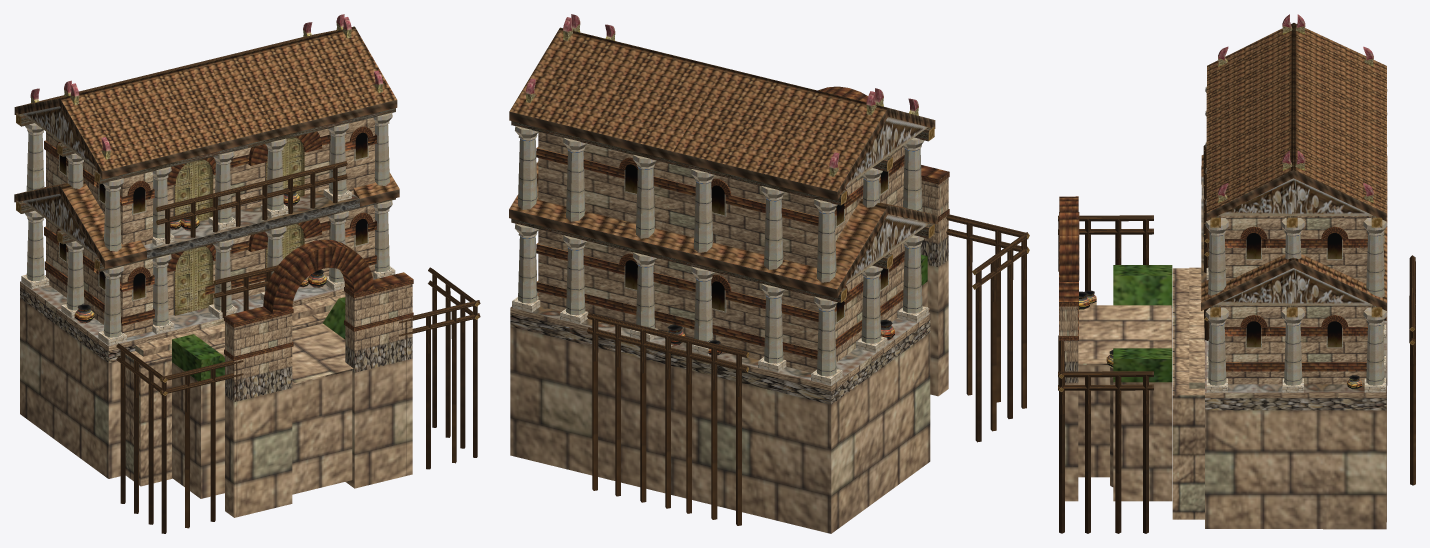
3 renders of one model, left to right at view 1: azimuth 30°, elevation 25°; view 2: azimuth 150°, elevation 25°; view 3: azimuth 270°, elevation 25°, orthographic. The views are drawn at different scales.
Visible parts, largest first — view 1: cc; view 2: cc; view 3: cc.
Part boxes in pixels (x1,y1,x2,y2): cc: (14,14,480,533); cc: (509,14,1029,533); cc: (1058,14,1415,533).
Size of the model in its own units: 28.47 by 27.05 by 31.09.
